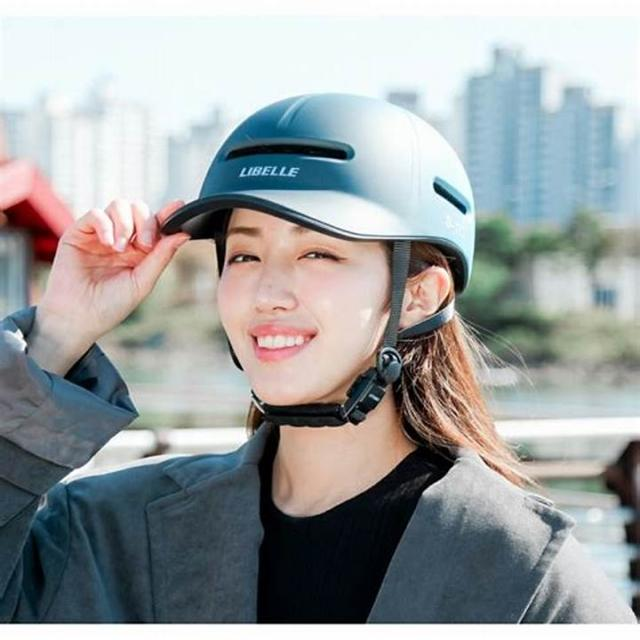illegal_helmet: (157, 86, 483, 436)
